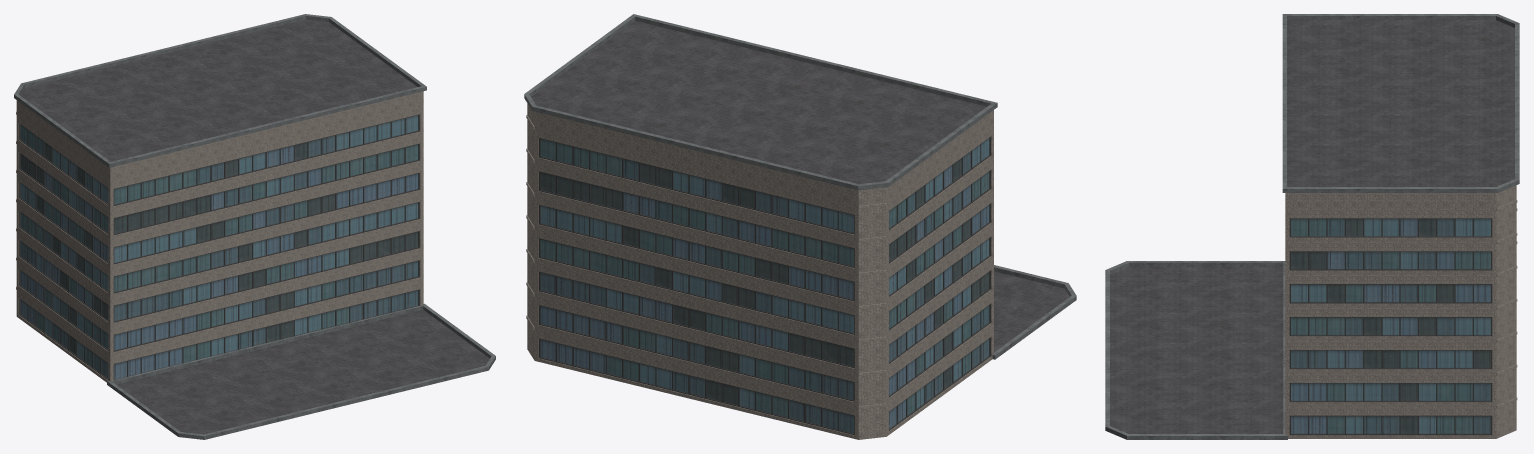
Rendered from jctBld50D_top.fbx.
3 renders of one model, left to right at view 1: azimuth 30°, elevation 25°; view 2: azimuth 150°, elevation 25°; view 3: azimuth 270°, elevation 25°, orthographic. The views are drawn at different scales.
Parts seen in each view (by area): view 1: jctBld50D_top_LOD0; view 2: jctBld50D_top_LOD0; view 3: jctBld50D_top_LOD0.
Part boxes in pixels (box(x1,y1,x2,y2)): jctBld50D_top_LOD0: box(14, 14, 495, 439); jctBld50D_top_LOD0: box(524, 14, 1076, 439); jctBld50D_top_LOD0: box(1105, 14, 1519, 439).
Size of the model in its own units: 4560 by 3050 by 4560.
